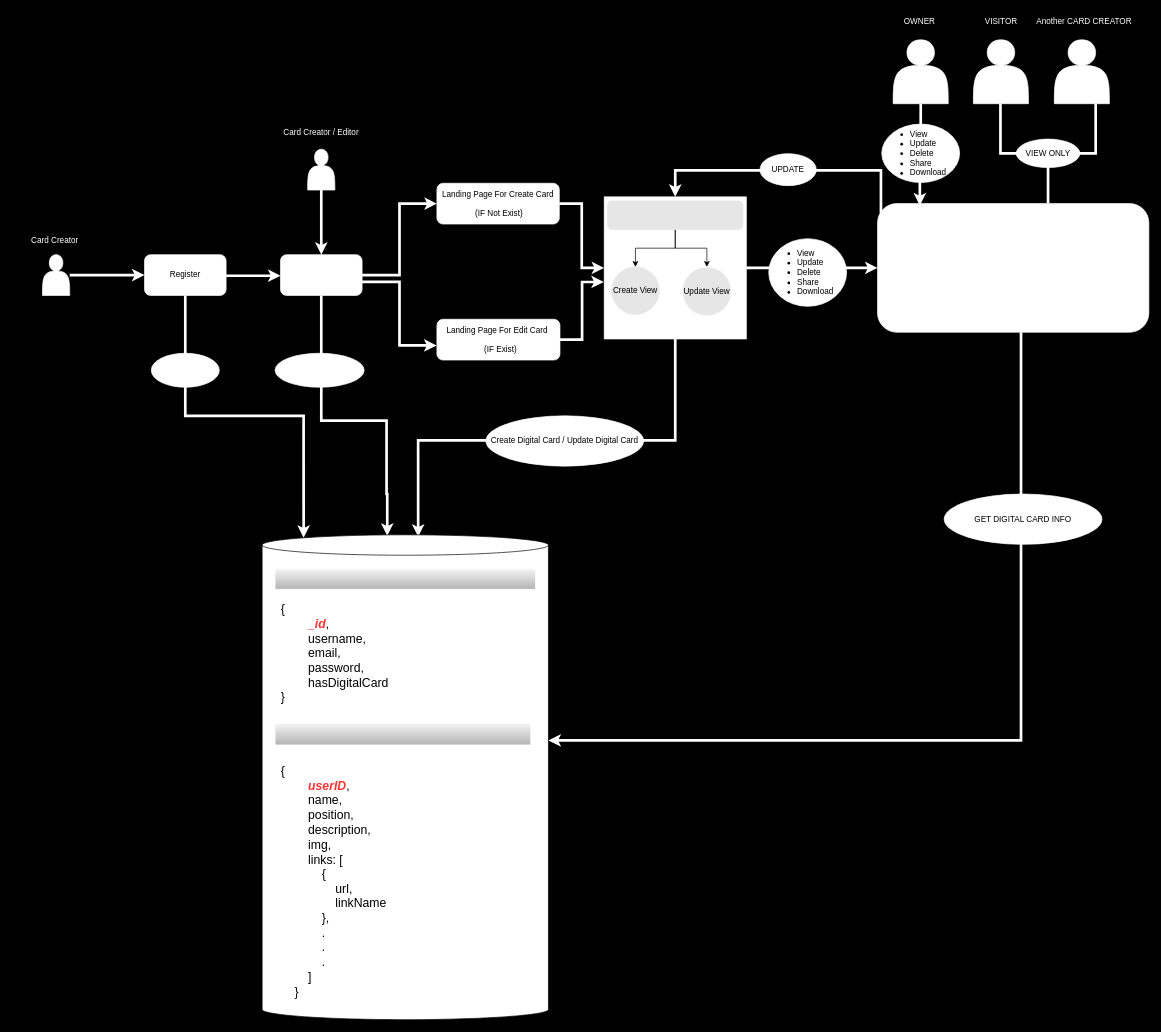
The diagram is 1161 pixels wide and 1032 high, and some of its shapes have lost their labels. Each missing label, with the centre of its shape:
"Create User" goes at point (185, 370).
"DIGITAL CARD" goes at point (402, 733).
"DIGITAL CARD FORM" goes at point (675, 215).
"DIGITAL CARD INFO" goes at point (1013, 267).
"Login" goes at point (321, 274).
"USER INFO" goes at point (405, 578).
"Validate User (Authentication)" goes at point (319, 370).
